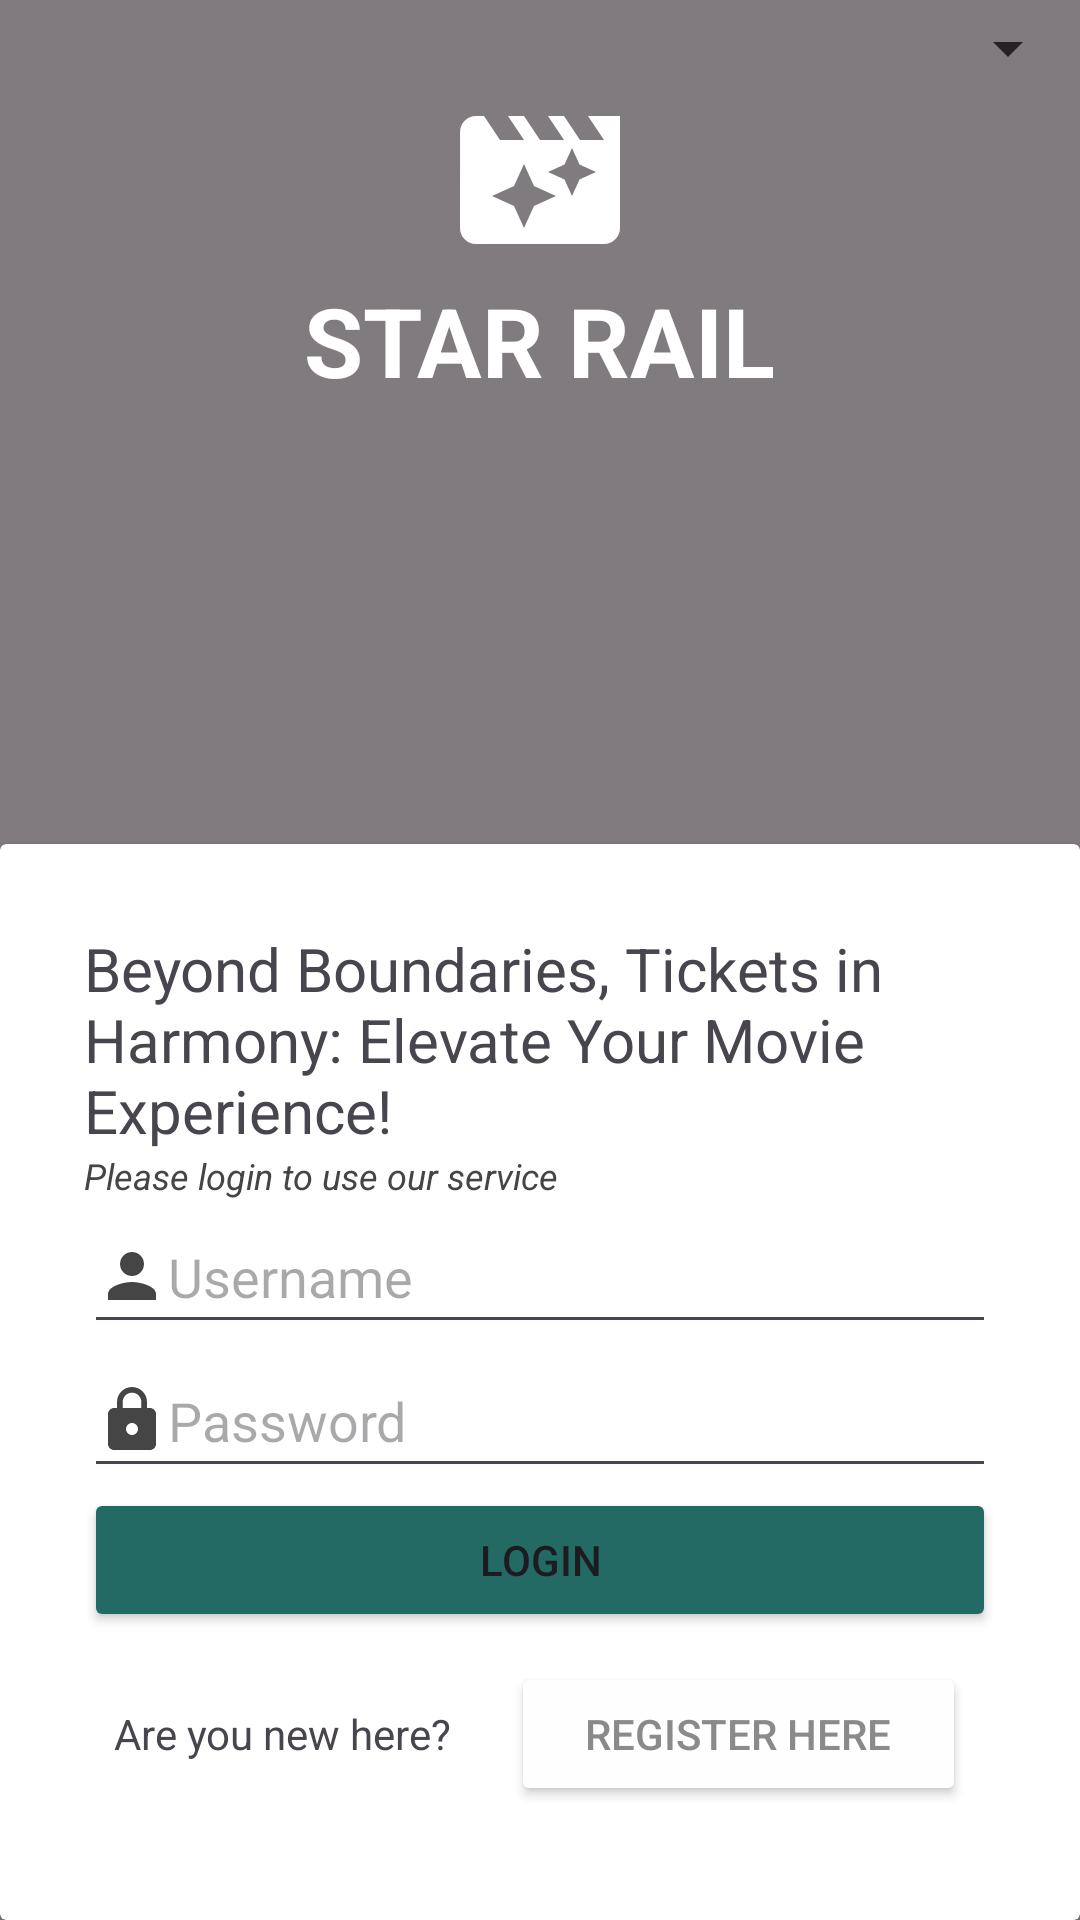

Named icons in this screenshot (1080*1920) and their bounding boxes, {"left": x1, "top": y1, "right": x2, "bottom": y2}:
movie filter: {"left": 460, "top": 116, "right": 620, "bottom": 244}
